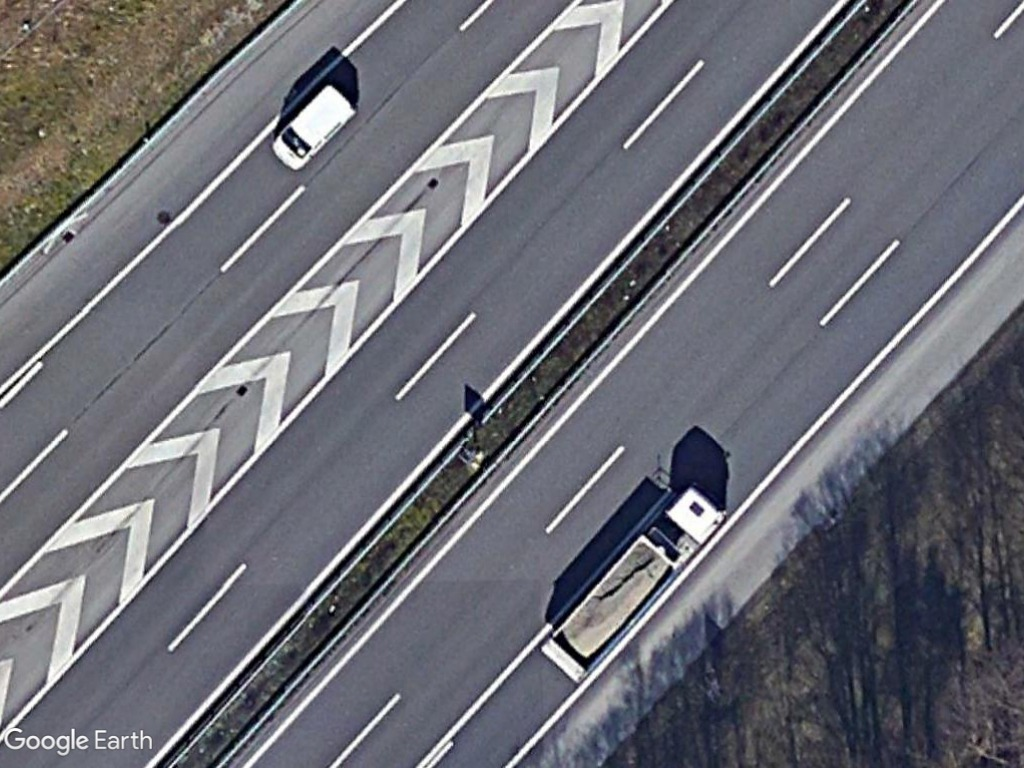others: (539, 484, 731, 681)
van: (268, 79, 357, 172)
